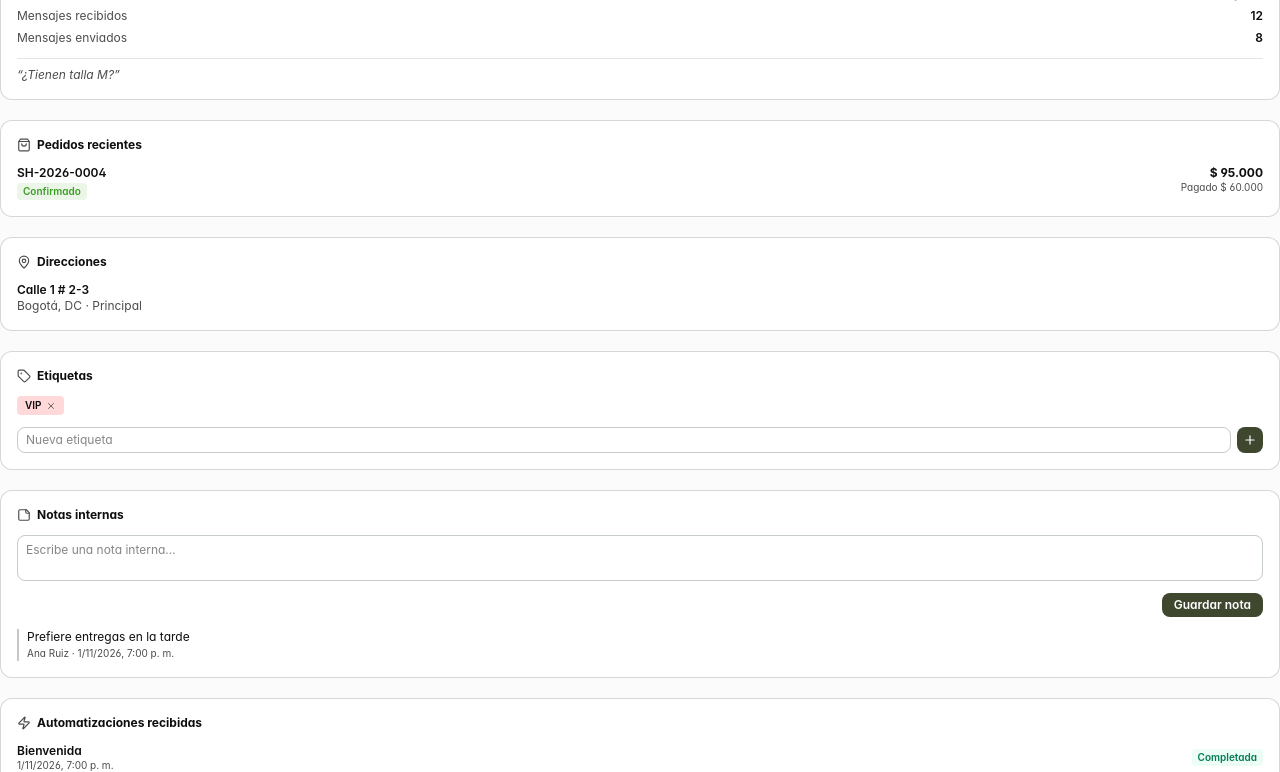
Test case: CustomerProfilePanel › adds an internal note and shows a server error
The width and height of the screenshot is (1280, 772).
Later steps or results of the test are not shown.
(page scrolled)
Type "Llamar mañana" into the text box with placeholder "Escribe una nota interna…" at (640, 558), box [17, 535, 1263, 581]
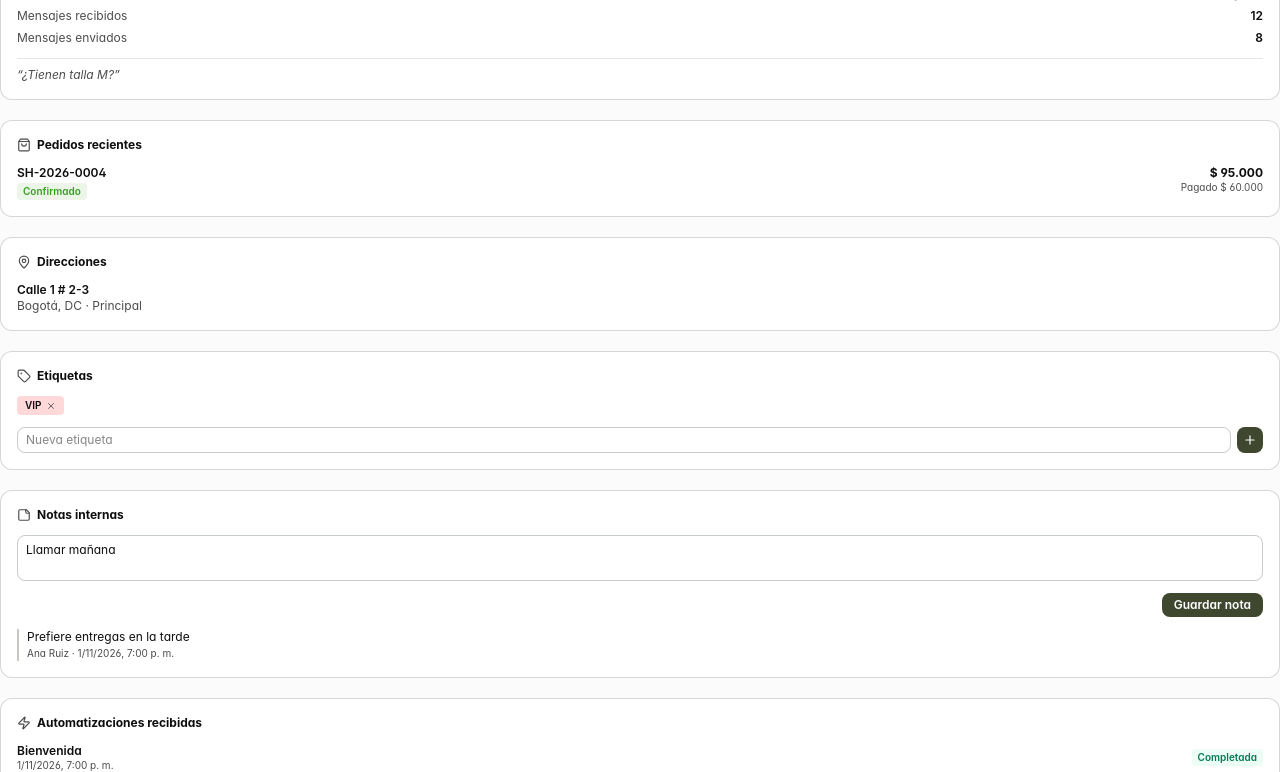
Click the button "Guardar nota" at (1212, 605), box [1162, 593, 1263, 617]
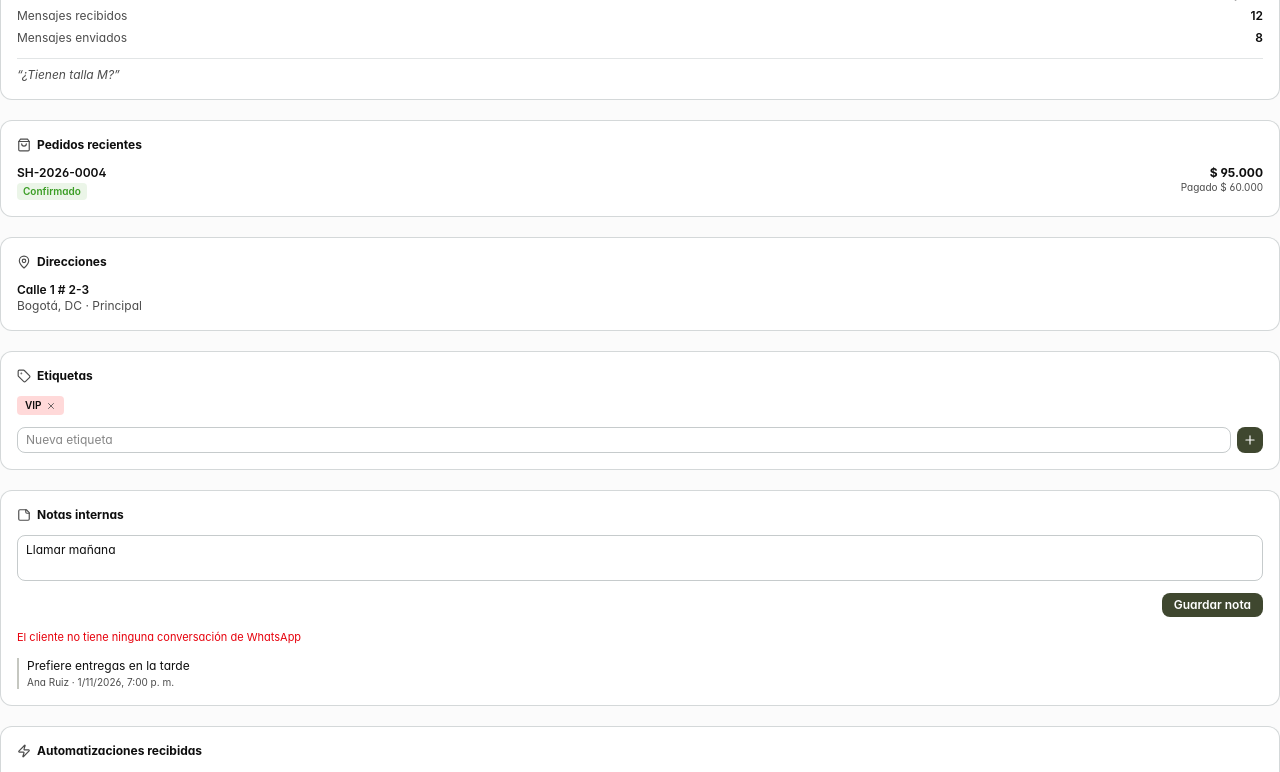
expect the text "El cliente no tiene ninguna conversación de WhatsApp" is shown: met, box [17, 630, 301, 644]
